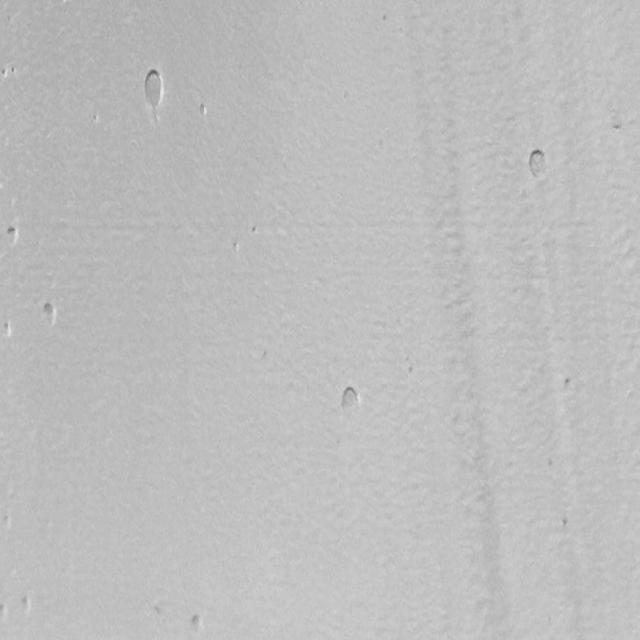pin holes: (140, 65, 168, 108), (336, 384, 364, 416), (528, 147, 553, 181), (38, 299, 58, 329), (560, 374, 581, 396), (151, 598, 173, 618), (4, 224, 22, 248), (188, 613, 206, 635), (18, 593, 35, 616), (1, 318, 17, 342), (3, 61, 21, 81), (2, 512, 15, 536), (0, 601, 14, 622), (197, 102, 209, 119), (230, 239, 242, 254), (0, 604, 9, 623), (248, 224, 260, 238)
